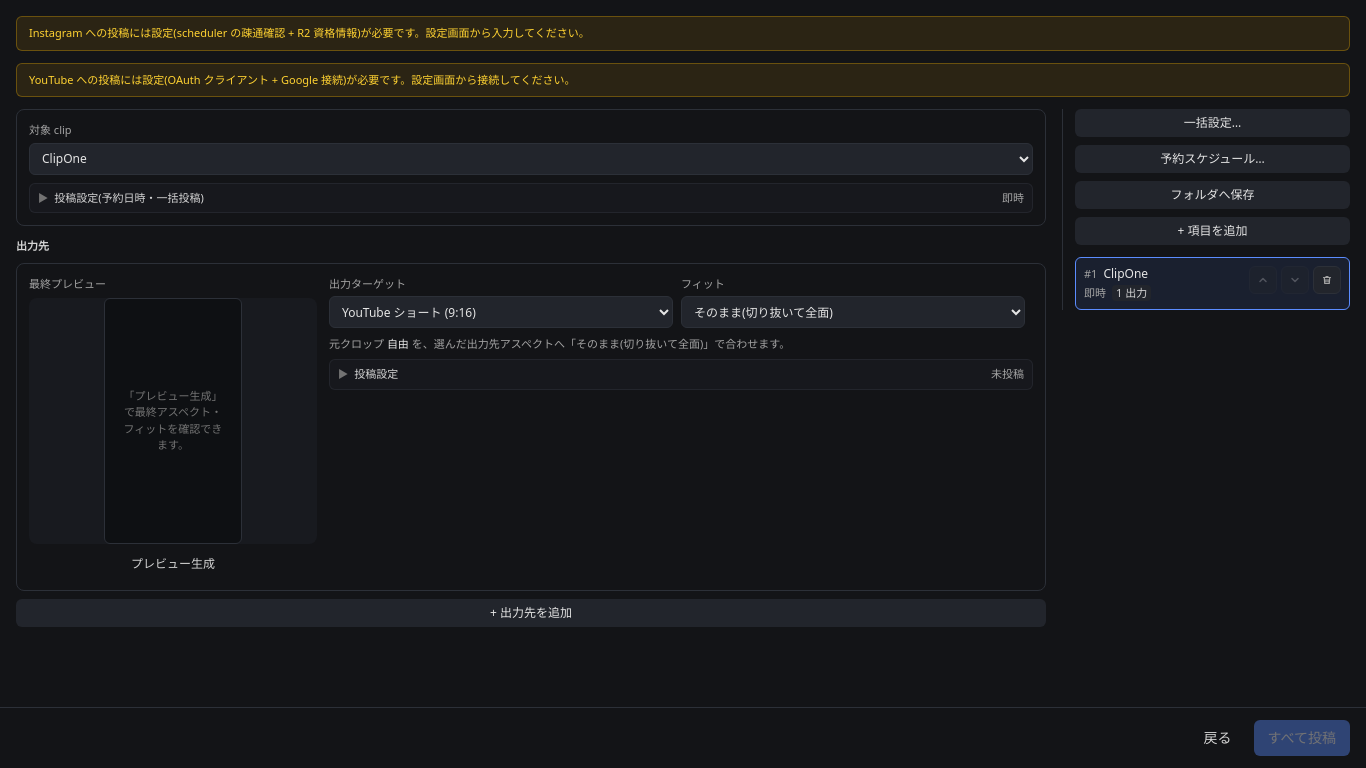
Test: UploadScreen: IG 投稿のゲート活性化 › 設定が未完了(igReady=false)の間は投稿ボタンが disabled
The width and height of the screenshot is (1366, 768).
Select "Instagram リール (9:16)" in the dropdown labelled "出力ターゲット" at (501, 312), box 329,296 -> 673,328
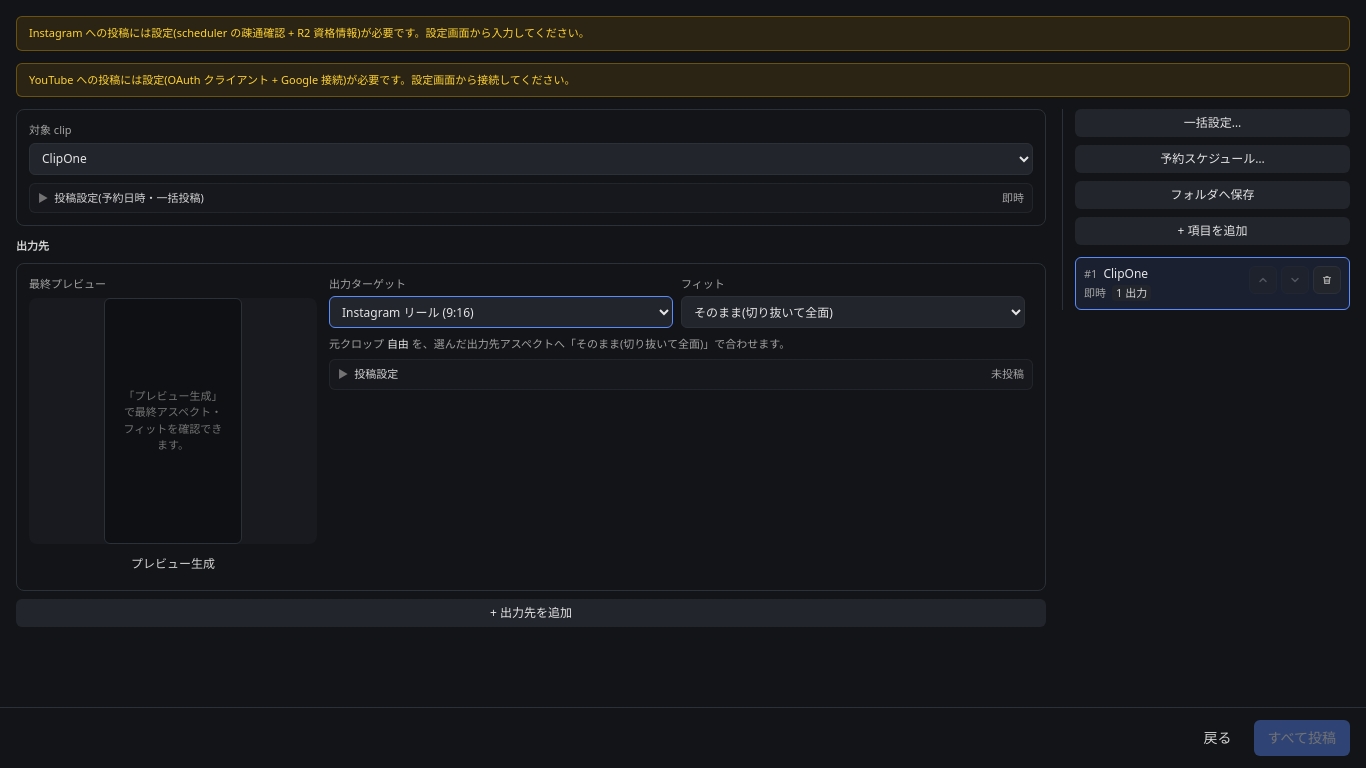
Click the button "▶ 投稿設定 未投稿" at (376, 374), box 338,366 -> 1024,383
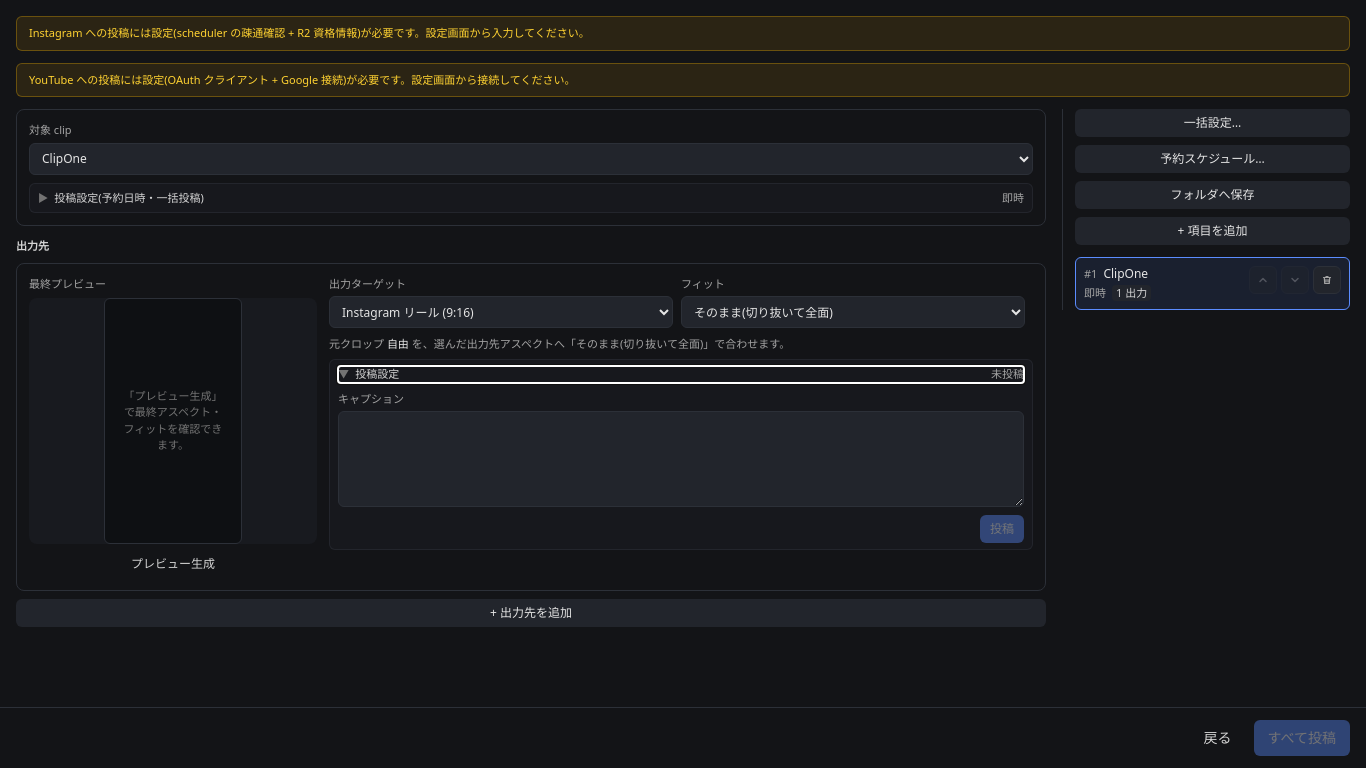
Expected: the button "投稿" is disabled, 980,515 -> 1024,543
